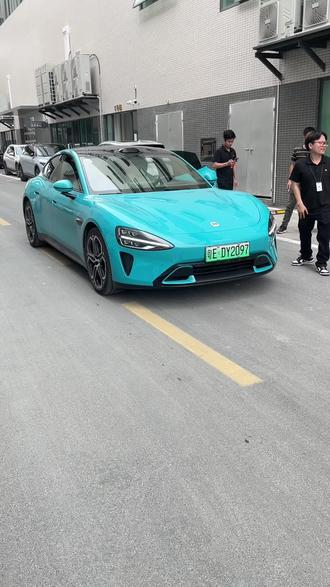su7: (22, 150, 287, 302)
